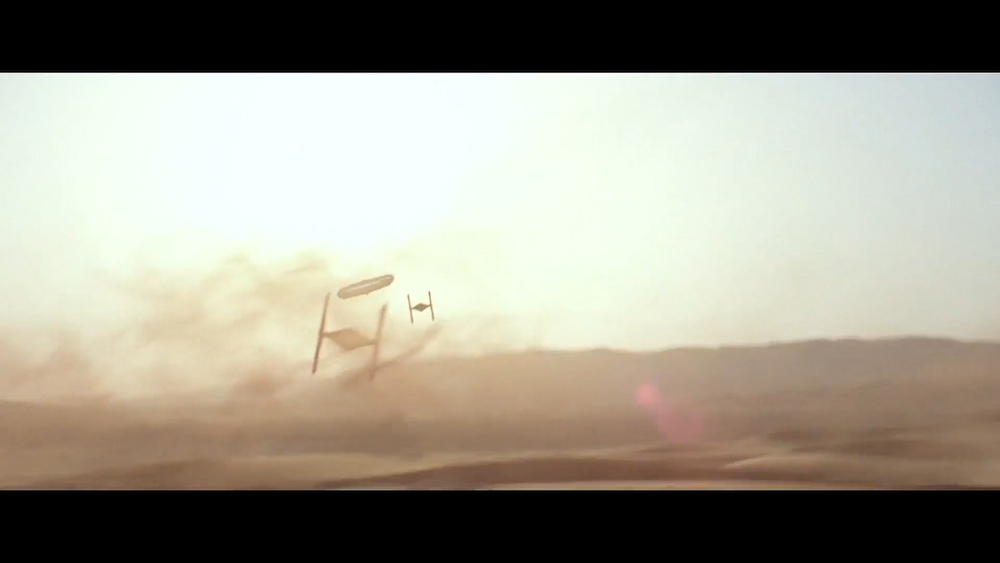Millennium Falcon: (338, 275, 395, 301)
Tie Fighter: (313, 293, 389, 383), (407, 291, 435, 325)
